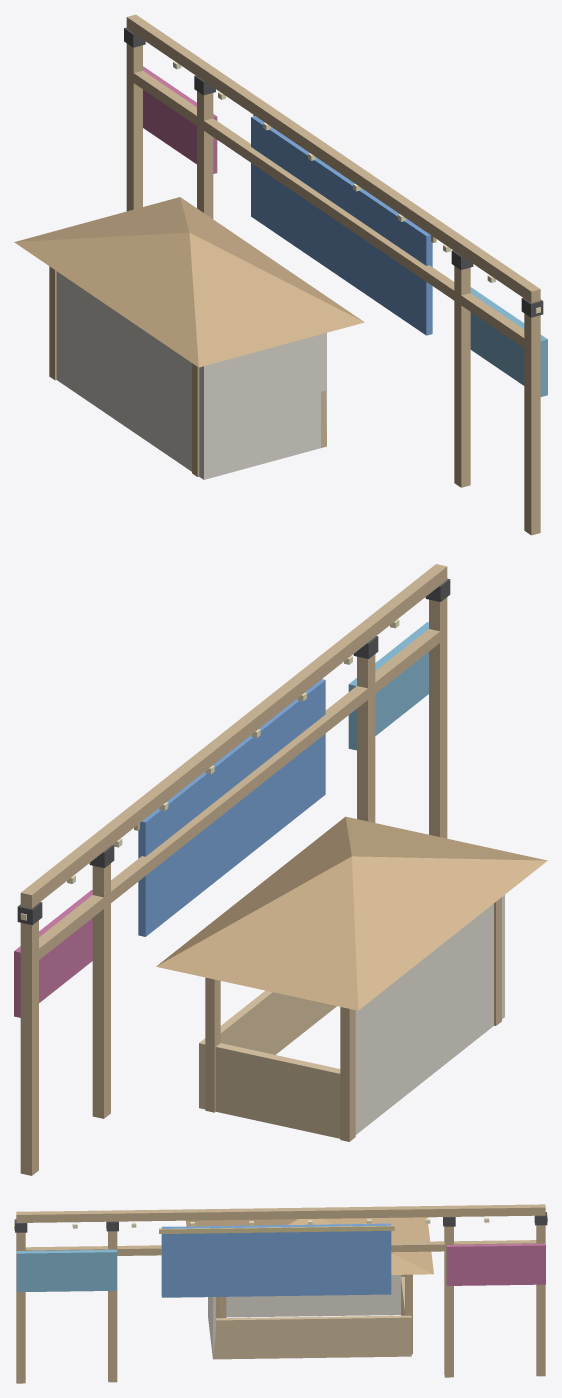
3 views of the same model, one above another, from view 1: azimuth 30°, elevation 25°; view 2: azimuth 150°, elevation 25°; view 3: azimuth 270°, elevation 25° (orthographic). The views are drawn at different scales.
Parts seen in each view (by area): view 1: Geom3D (×17); view 2: Geom3D (×19); view 3: Geom3D (×18).
Boxes of the visible parts, x1,y1,x2,y2 form: Geom3D (×17): (14,14,547,535); Geom3D (×19): (14,564,547,1175); Geom3D (×18): (16,1204,545,1383).
Bounding box in the file's own units: 5.51 × 5.41 × 15.55.
